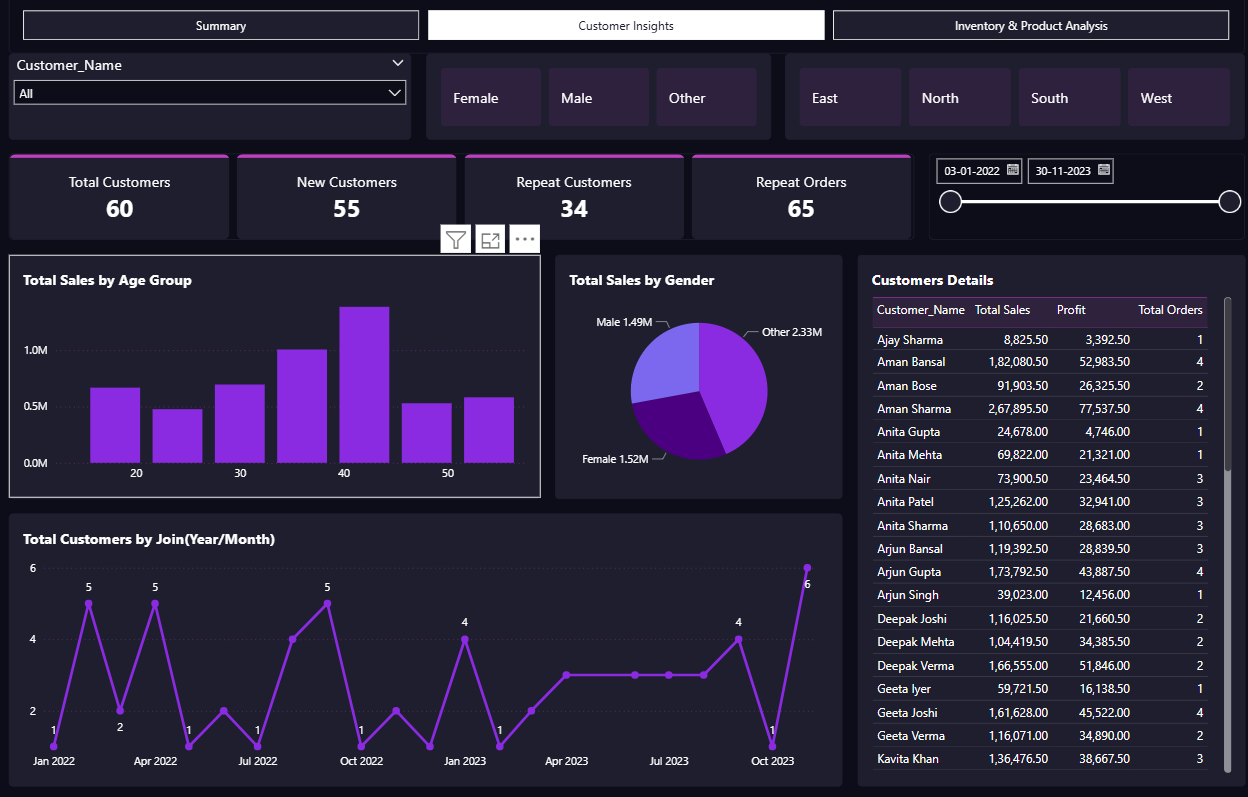

The dashboard page shown, as its layout file describes it:
{"tool":"powerbi","page":{"name":"Customer Insights","canvas":[1400,900],"ordinal":1},"visuals":[{"type":"cardVisual","fields":{"Data":["Measures (2).Total Customers","Measures (2).New Customers","Measures (2).Repeat Customers","Measures (2).Repeat Orders"]},"box":[16,176,1008,96],"z":0},{"type":"pieChart","fields":{"Category":["customers.Gender"],"Y":["Measures (2).Total Sales"]},"box":[624,288,320,272],"z":1000},{"type":"lineChart","title":"Total Customers by Join(Year/Month)","fields":{"Category":["customers.Join_Date.Variation.Date Hierarchy.Year","customers.Join_Date.Variation.Date Hierarchy.Month"],"Y":["Measures (2).Total Customers"]},"box":[16,576,928,304],"z":2000},{"type":"tableEx","title":"Customers Details","fields":{"Values":["customers.Customer_Name","Measures (2).Total Sales","Measures (2).Profit","Measures (2).Total Orders"]},"box":[960,288,432,592],"z":3000},{"type":"columnChart","fields":{"Category":["customers.Age Group"],"Y":["Measures (2).Total Sales"]},"box":[16,288,592,272],"z":4000},{"type":"slicer","fields":{"Values":["customers.Join_Date"]},"box":[1040,176,352,96],"z":5000},{"type":"advancedSlicerVisual","fields":{"Values":["customers.Gender"]},"box":[480,64,384,96],"z":6000},{"type":"advancedSlicerVisual","fields":{"Values":["regions.Region_Name"]},"box":[880,64,512,96],"z":7000},{"type":"pageNavigator","box":[16,0,1376,64],"z":8000},{"type":"slicer","fields":{"Values":["customers.Customer_Name"]},"box":[16,64,448,96],"z":9000}]}

Visuals, with their boxes in screenshot pixels (x1, y1, x2, y2), scaled from the page's 1400x900 canvas onto the 1248x797 screenshot:
cardVisual - Measures (2).Total Customers x Measures (2).New Customers: left=14, top=156, right=913, bottom=241
pieChart - customers.Gender x Measures (2).Total Sales: left=556, top=255, right=842, bottom=496
"Total Customers by Join(Year/Month)" lineChart: left=14, top=510, right=842, bottom=779
"Customers Details" tableEx: left=856, top=255, right=1241, bottom=779
columnChart - customers.Age Group x Measures (2).Total Sales: left=14, top=255, right=542, bottom=496
slicer - customers.Join_Date: left=927, top=156, right=1241, bottom=241
advancedSlicerVisual - customers.Gender: left=428, top=57, right=770, bottom=142
advancedSlicerVisual - regions.Region_Name: left=784, top=57, right=1241, bottom=142
pageNavigator: left=14, top=0, right=1241, bottom=57
slicer - customers.Customer_Name: left=14, top=57, right=414, bottom=142
